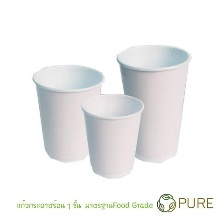paper_cup: (112, 39, 194, 165), (27, 59, 107, 165), (78, 90, 147, 181)
